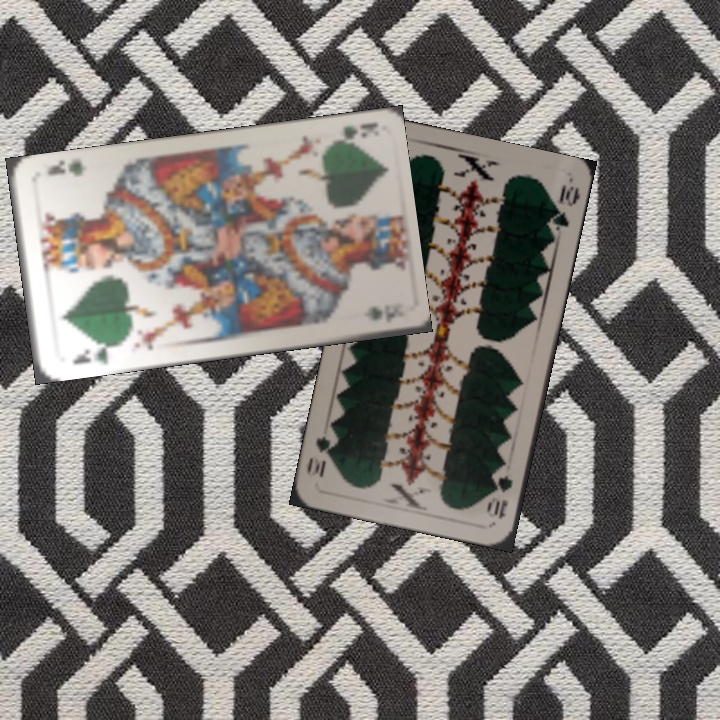G10: (488, 471, 515, 522)
GK: (321, 118, 379, 149), (68, 339, 115, 367)
